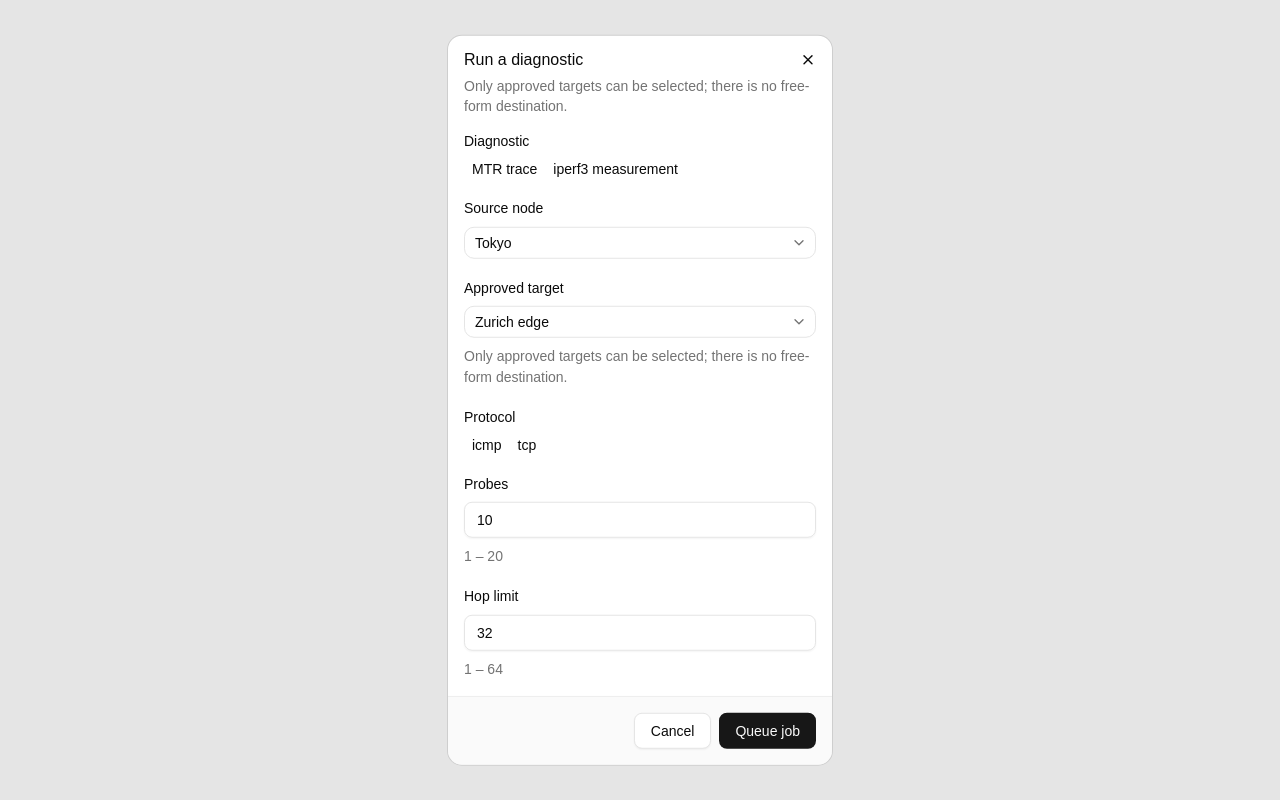
Test: diagnostics create dialog › reports a rejected submission and stays open
Click the button "Queue job" at (768, 730), box [719,712,816,748]
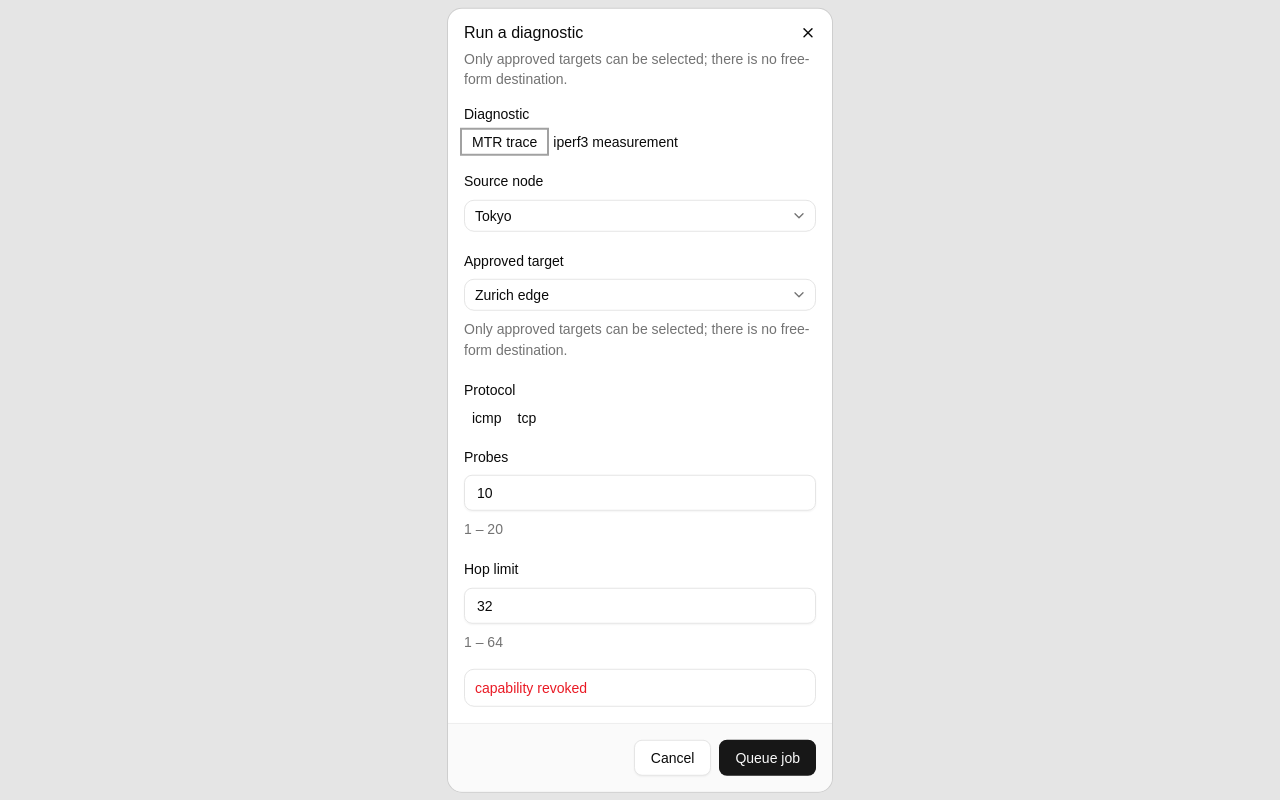
Expected: the text "capability revoked" is shown, [475,679,587,695]
